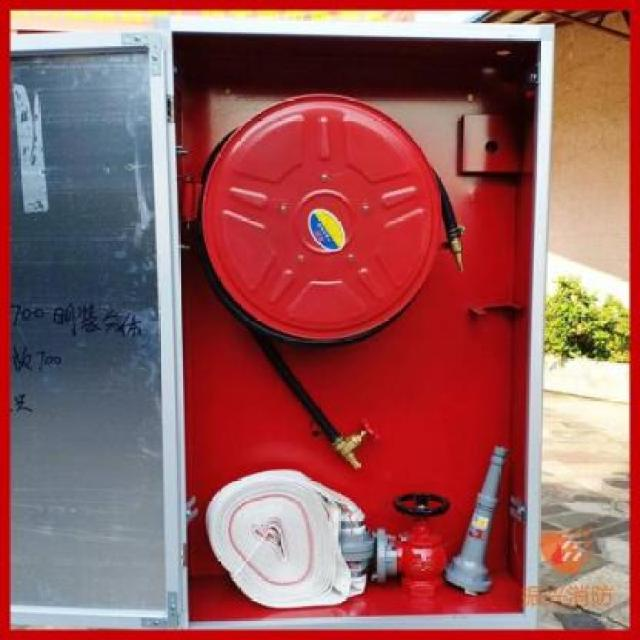firehydrant: (9, 14, 558, 629)
